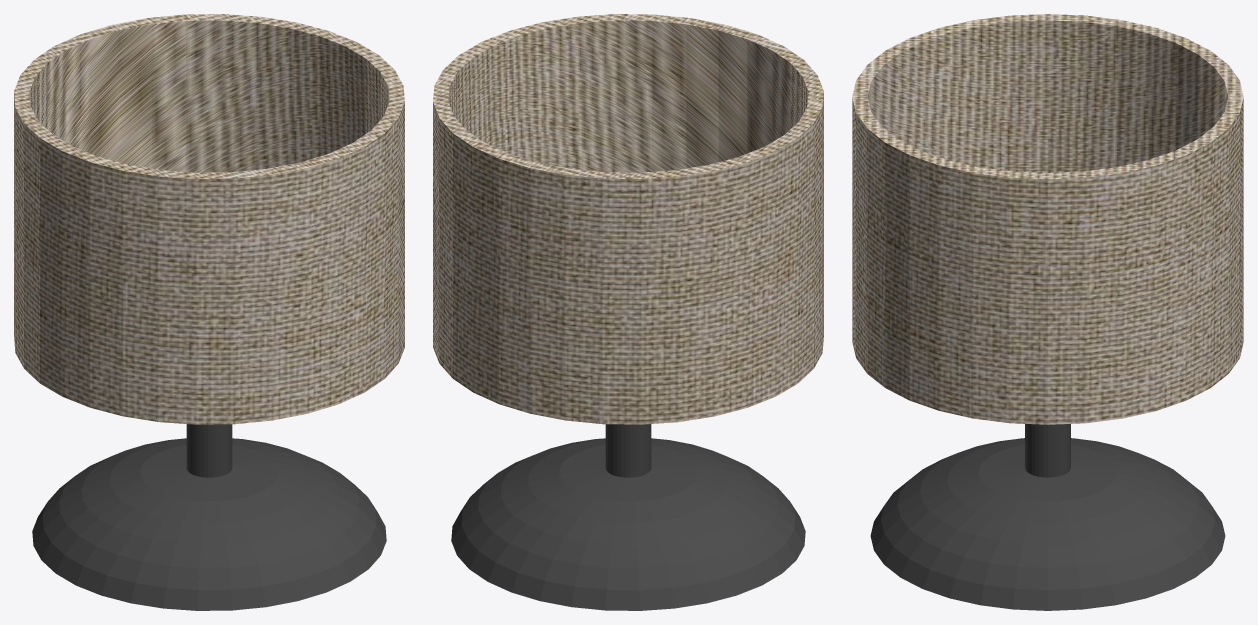
The model's file is Lampf.fbx.
3 renders of one model, left to right at view 1: azimuth 30°, elevation 25°; view 2: azimuth 150°, elevation 25°; view 3: azimuth 270°, elevation 25°, orthographic.
Parts seen in each view (by area): view 1: Sphere, Sphere.002, Sphere.003; view 2: Sphere, Sphere.002, Sphere.003; view 3: Sphere, Sphere.002, Sphere.003.
Boxes of the visible parts, x1,y1,x2,y2 form: Sphere: [14, 14, 404, 424]; Sphere.002: [32, 438, 386, 610]; Sphere.003: [186, 424, 232, 477]; Sphere: [433, 14, 823, 424]; Sphere.002: [451, 438, 805, 610]; Sphere.003: [605, 424, 651, 477]; Sphere: [852, 14, 1243, 424]; Sphere.002: [870, 438, 1225, 610]; Sphere.003: [1025, 424, 1070, 477].
Size of the model in its own units: 144 by 178 by 144.
Materials: 3 (1 with a texture image).
